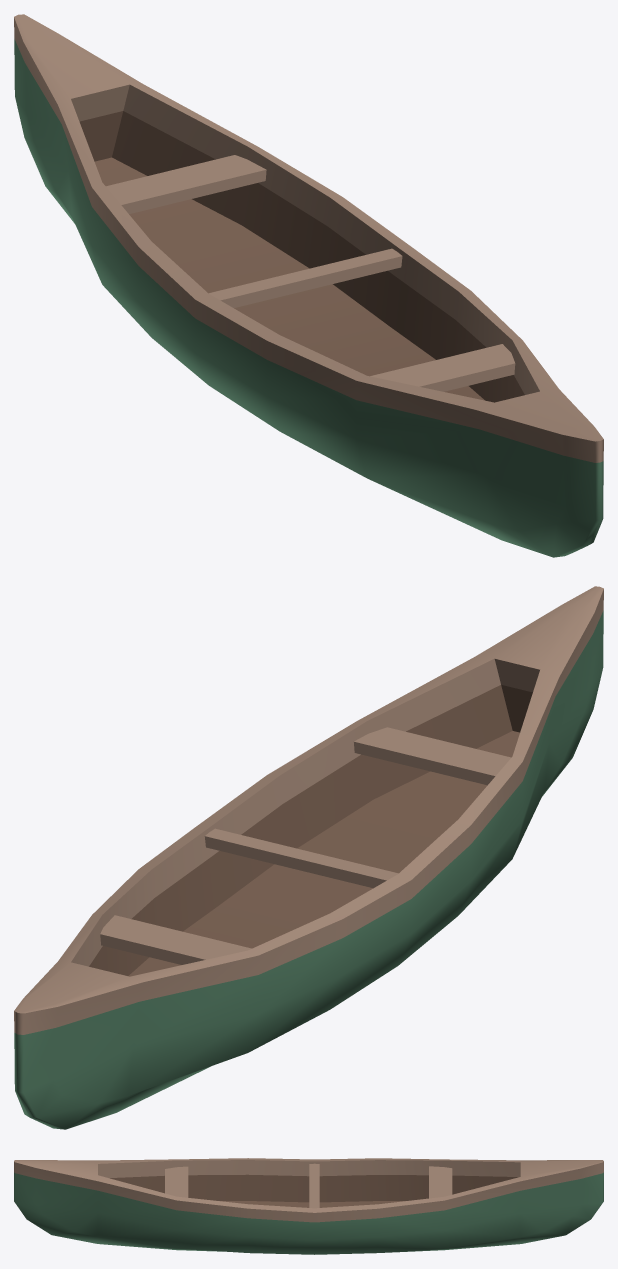
File: mdl_canoe01.fbx
The picture shows the model from 3 angles, top to bottom: view 1: azimuth 30°, elevation 25°; view 2: azimuth 150°, elevation 25°; view 3: azimuth 270°, elevation 25°; orthographic projection. The views are drawn at different scales.
Visible parts, largest first — view 1: mdlcanoe02; view 2: mdlcanoe02; view 3: mdlcanoe02.
Part boxes in pixels (x1,y1,x2,y2): mdlcanoe02: (14, 14, 603, 557); mdlcanoe02: (14, 586, 603, 1129); mdlcanoe02: (14, 1158, 603, 1254).
Size of the model in its own units: 33.23 by 22.84 by 155.
1 material, 1 textured.
